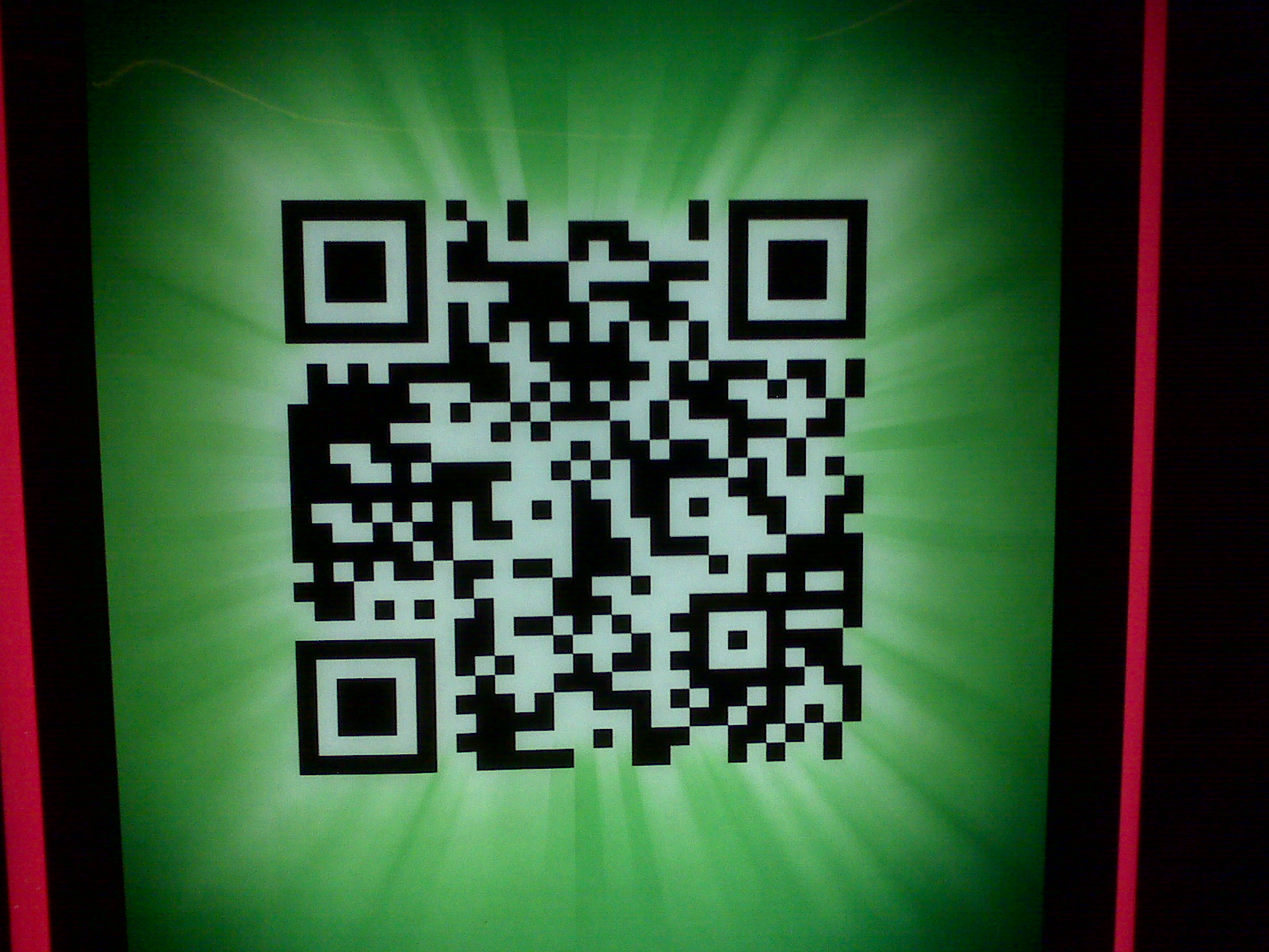QR-CODE: (282, 200, 867, 774)
